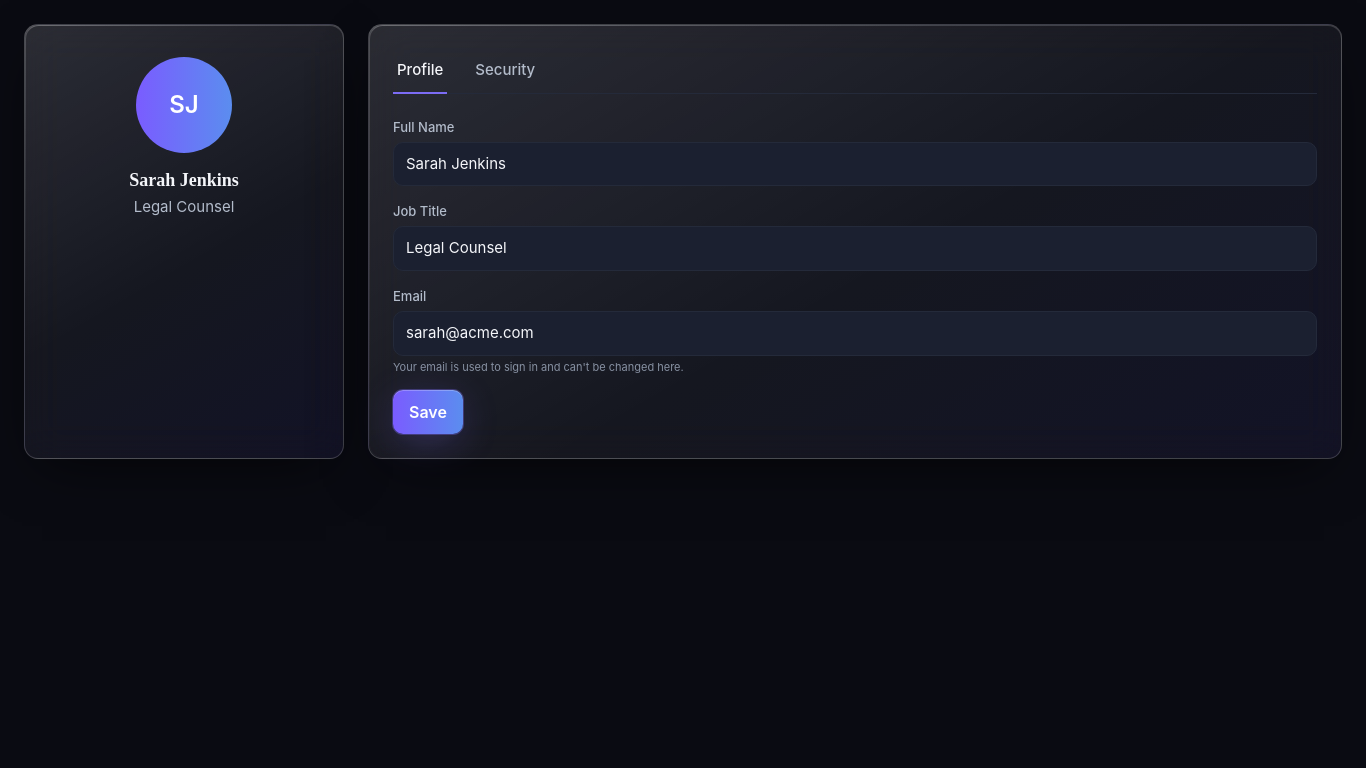
Scenario: AccountSettingsView (spec 023 AC-9..12) › change_password_success_clears_fields
Click the tab "Security": (505, 71) x1=471 y1=49 x2=539 y2=94
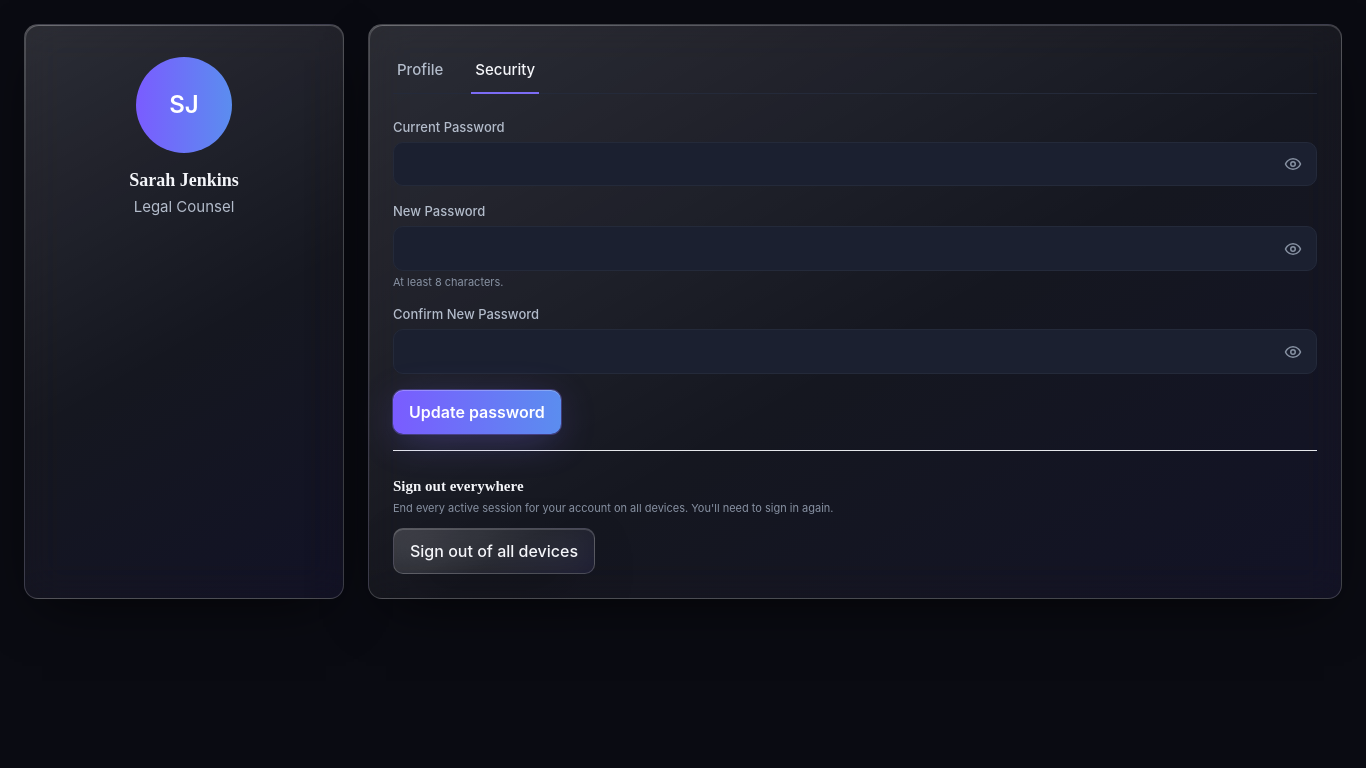
In the password field labelled "Current Password": (855, 164) x1=393 y1=142 x2=1317 y2=186, type "OldPass1!"
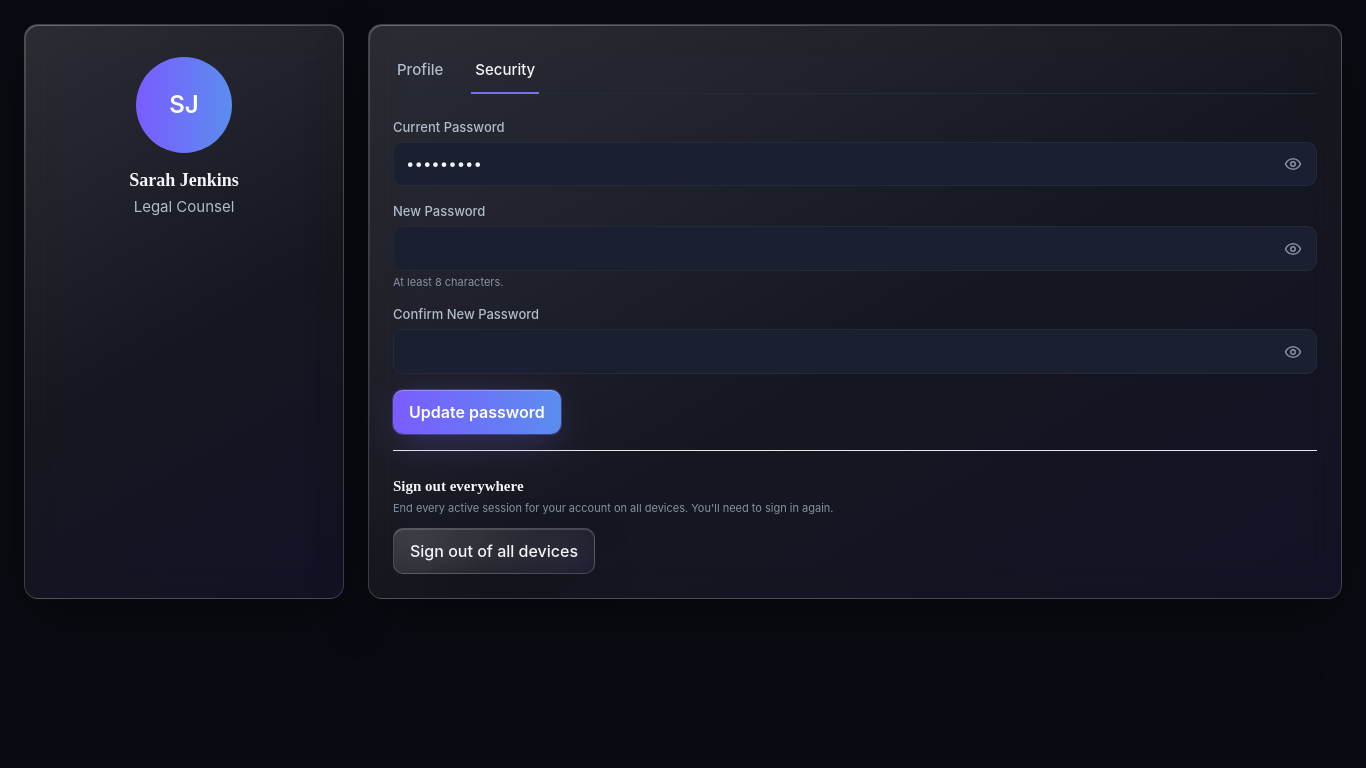
In the password field labelled "New Password": (855, 249) x1=393 y1=226 x2=1317 y2=271, type "NewPassw1!"
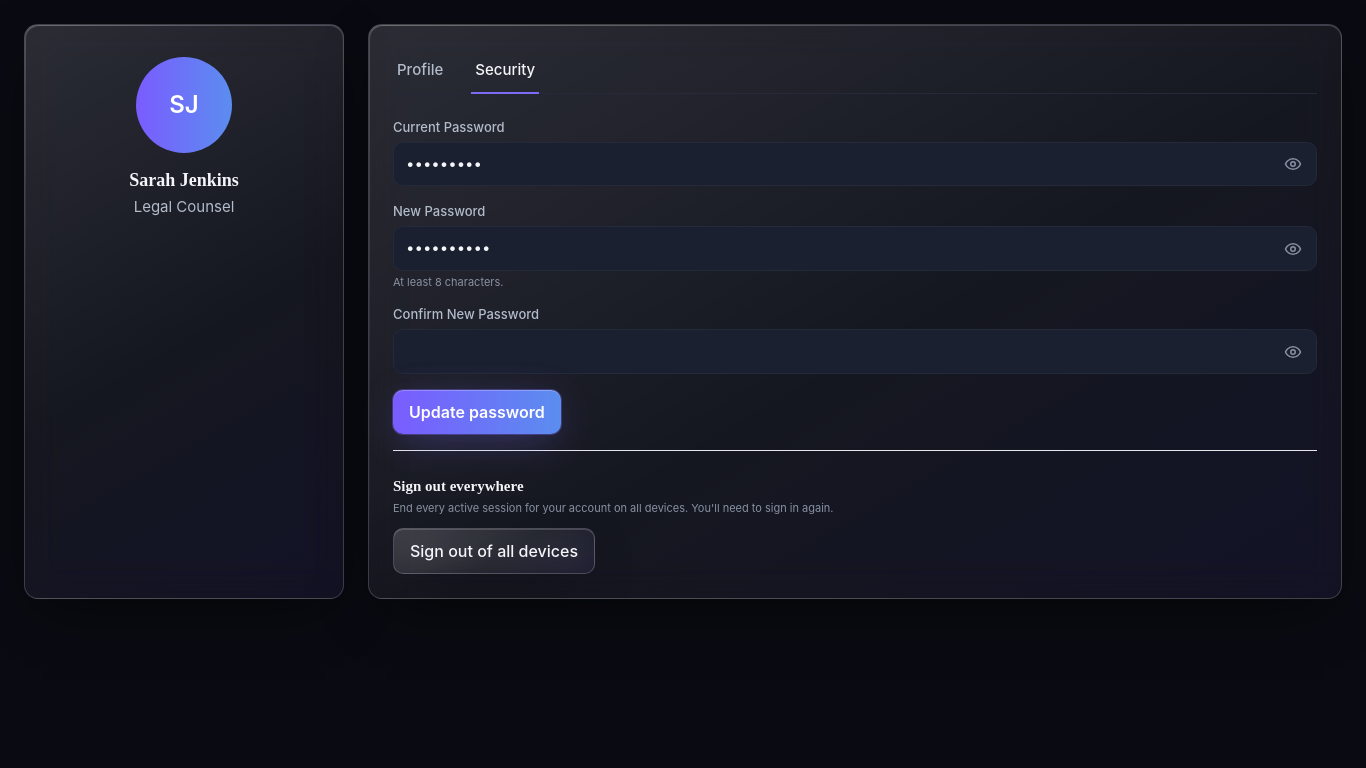
In the password field labelled "Confirm New Password": (855, 352) x1=393 y1=329 x2=1317 y2=374, type "NewPassw1!"
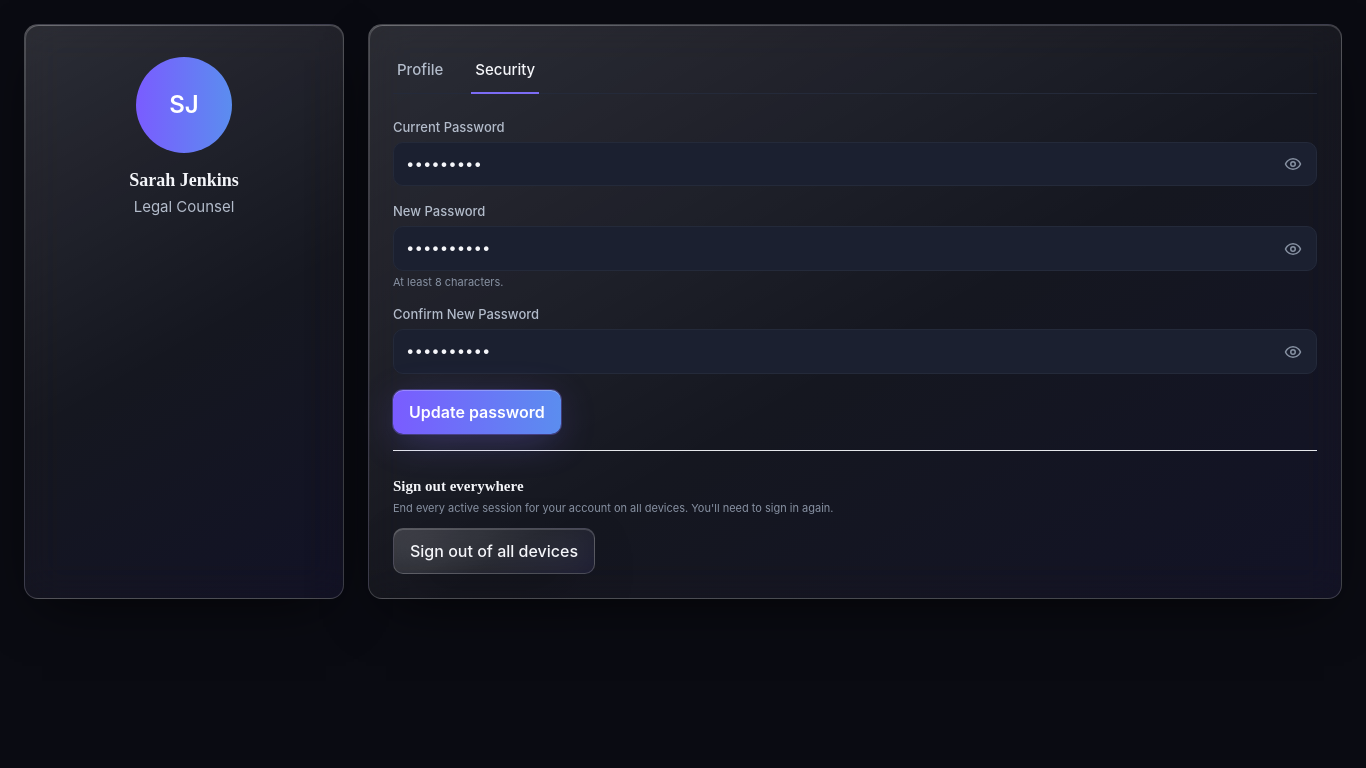
Click the button "Update password": (477, 412) x1=393 y1=390 x2=561 y2=434
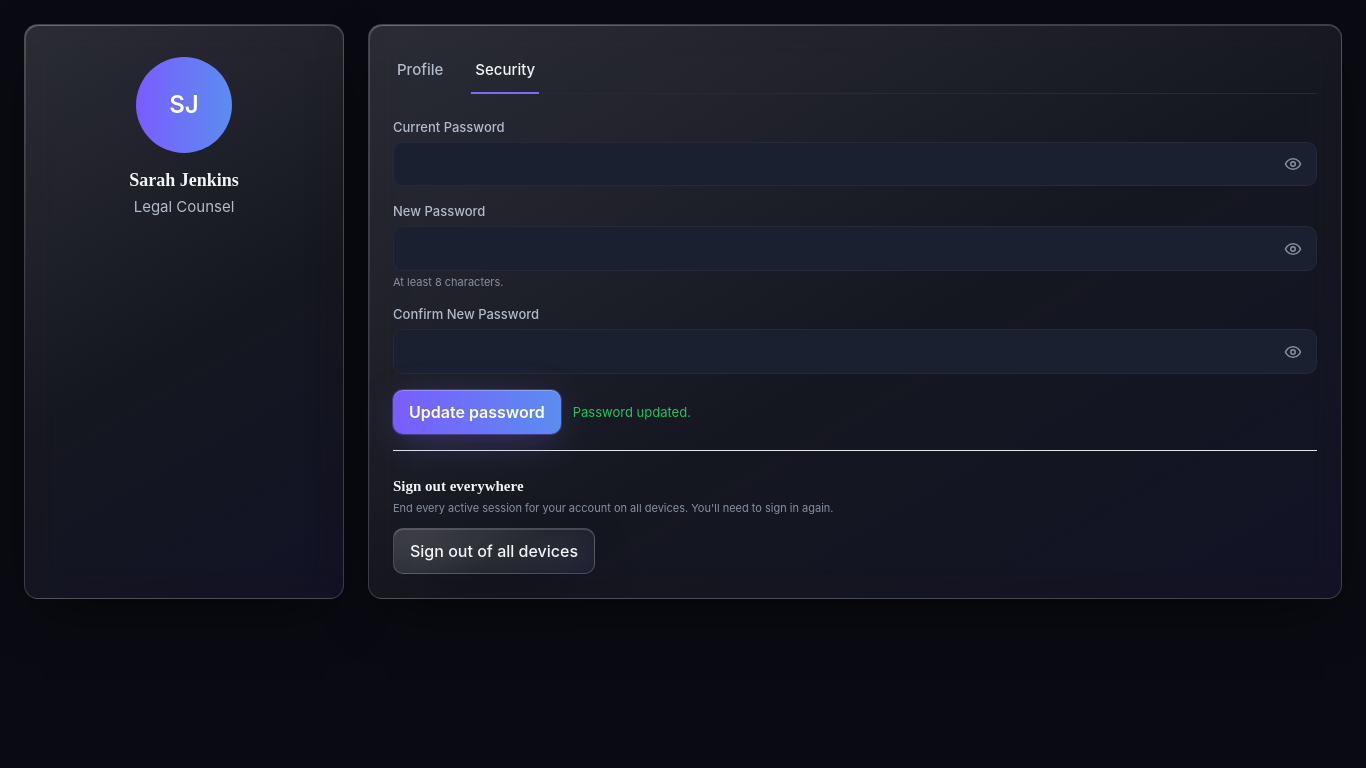
Expected: the text "Password updated." is shown, x1=573 y1=403 x2=691 y2=421
Expected: the password field labelled "Current Password" is empty, x1=393 y1=142 x2=1317 y2=186
